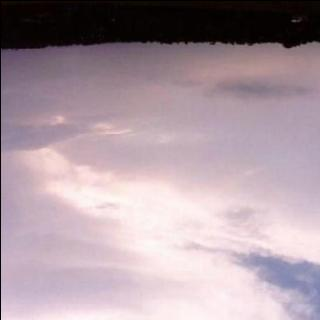Stratus: (0, 51, 320, 320)
